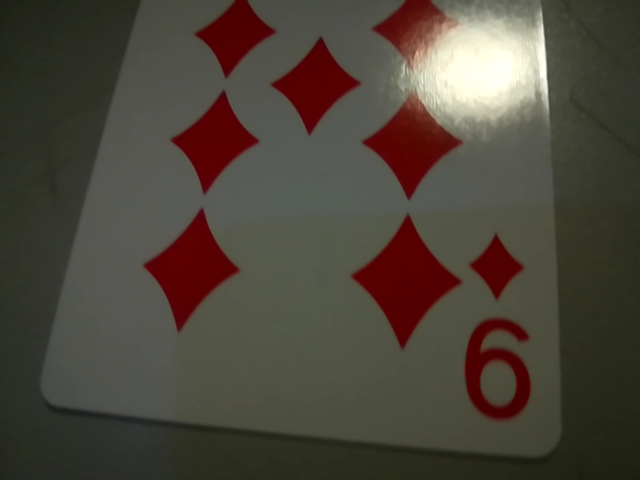fk 9: (446, 224, 560, 436)
